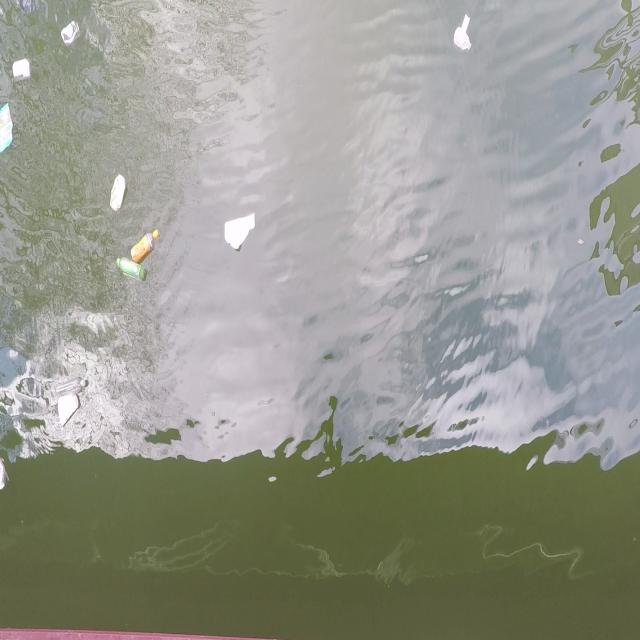Bouteille plastique: (128, 224, 162, 267), (115, 259, 147, 281)
Non plastique: (109, 171, 128, 218), (59, 18, 85, 46)
